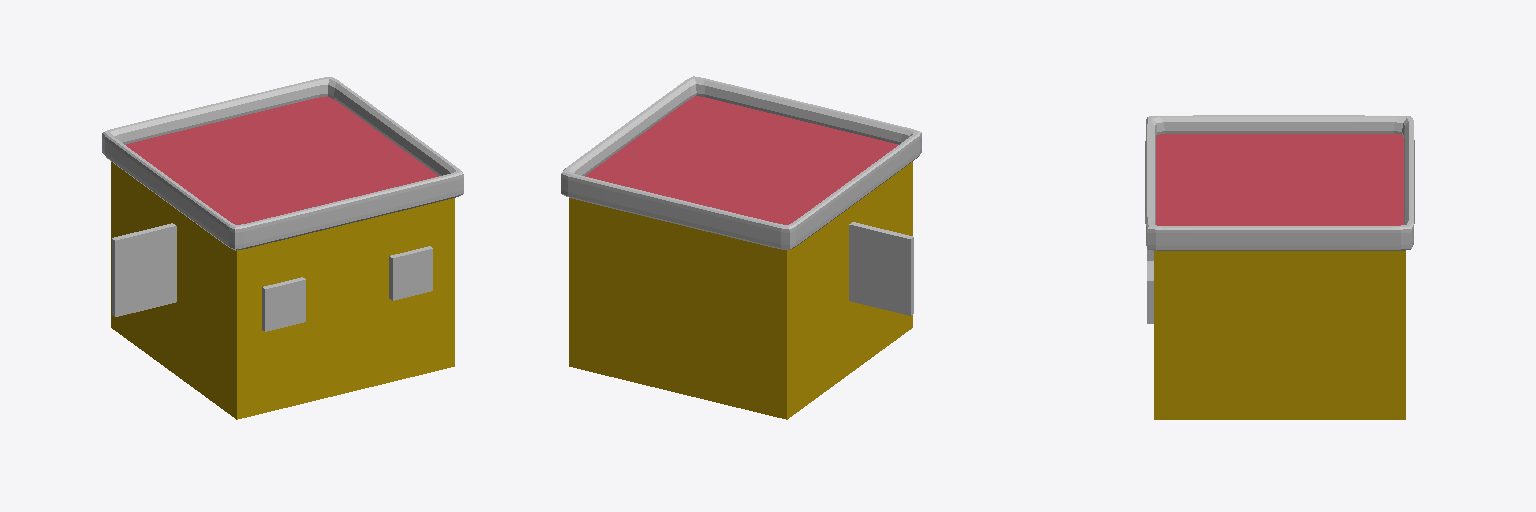
File: casa2.obj
3 views of the same model, side by side, from view 1: azimuth 30°, elevation 25°; view 2: azimuth 150°, elevation 25°; view 3: azimuth 270°, elevation 25° (orthographic).
Parts seen in each view (by area): view 1: House_Cube.001, Roof_Cube.000, banner_Cube.002, windows_Cube; view 2: House_Cube.001, Roof_Cube.000, banner_Cube.002; view 3: House_Cube.001, Roof_Cube.000.
Boxes of the visible parts, <box> form: House_Cube.001: <box>111,96,454,419</box>; Roof_Cube.000: <box>102,77,463,250</box>; banner_Cube.002: <box>112,223,176,316</box>; windows_Cube: <box>262,246,432,331</box>; House_Cube.001: <box>569,96,912,419</box>; Roof_Cube.000: <box>561,76,921,250</box>; banner_Cube.002: <box>849,222,913,315</box>; House_Cube.001: <box>1154,134,1405,419</box>; Roof_Cube.000: <box>1145,115,1414,250</box>.
Bounding box in the file's own units: 2.85 × 1.85 × 2.31.